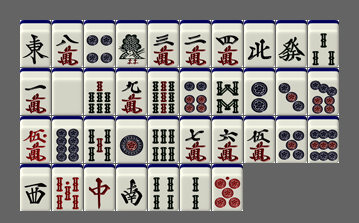0m: (20, 116, 51, 163)
0p: (212, 164, 243, 211)
0s: (52, 164, 83, 211)
1m: (20, 68, 51, 115)
1p: (116, 116, 147, 163)
1s: (116, 20, 147, 67)
1z: (20, 20, 51, 67)
2m: (180, 20, 211, 67)
2p: (244, 68, 275, 115)
2s: (180, 164, 211, 211)
2z: (116, 164, 147, 211)
3m: (148, 20, 179, 67)
3p: (276, 68, 307, 115)
3s: (308, 20, 339, 67)
3z: (20, 164, 51, 211)
4m: (212, 20, 243, 67)
4p: (84, 20, 115, 67)
4s: (148, 164, 179, 211)
4z: (244, 20, 275, 67)
5m: (244, 116, 275, 163)
5p: (276, 116, 307, 163)
5s: (84, 116, 115, 163)
5z: (52, 68, 83, 115)
6m: (212, 116, 243, 163)
6p: (180, 68, 211, 115)
6s: (148, 116, 179, 163)
6z: (276, 20, 307, 67)
7m: (180, 116, 211, 163)
7p: (308, 68, 339, 115)
7s: (84, 68, 115, 115)
7z: (84, 164, 115, 211)
8m: (52, 20, 83, 67)
8p: (52, 116, 83, 163)
8s: (212, 68, 243, 115)
9m: (116, 68, 147, 115)
9p: (308, 116, 339, 163)
9s: (148, 68, 179, 115)
